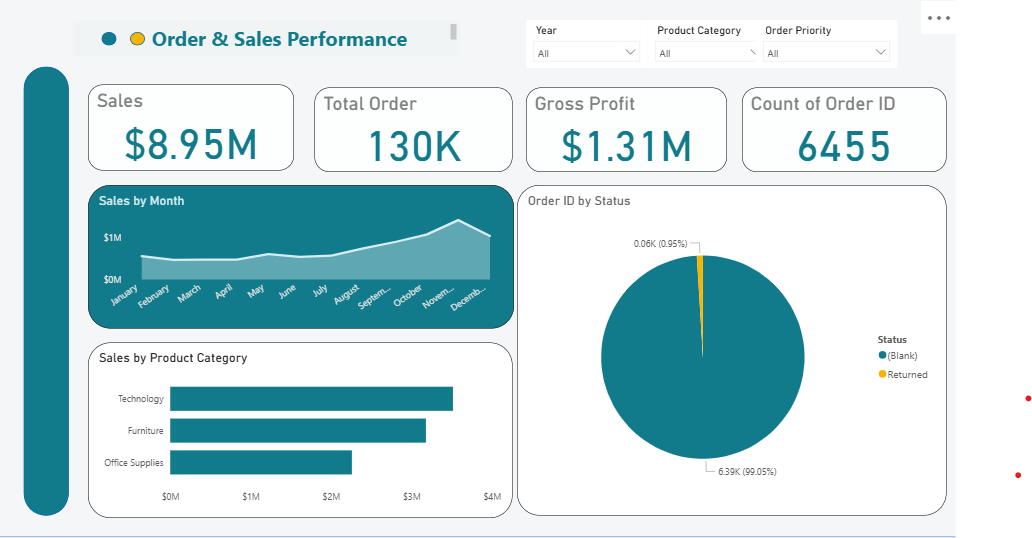

The page's visual inventory and layout, read from the dashboard file:
{"tool":"powerbi","page":{"name":"Page 1","canvas":[1280,720],"ordinal":0},"visuals":[{"type":"shape","box":[0,0,1280.9,719.1],"z":0},{"type":"shape","box":[34,90.7,60.5,599.1],"z":1000},{"type":"card","title":"Sales","fields":{"Values":["Sum(Orders.Sales)"]},"box":[119.1,114.9,274.5,114.9],"z":2000},{"type":"card","title":"Total Order","fields":{"Values":["Sum(Orders.Quantity ordered new)"]},"box":[421.3,117,263.8,112.8],"z":3000},{"type":"card","title":"Gross Profit","fields":{"Values":["Sum(Orders.Profit)"]},"box":[704.3,117,268.1,112.8],"z":4000},{"type":"card","title":"Count of Order ID","fields":{"Values":["Count(Orders.Order ID)"]},"box":[991.5,117,272.3,112.8],"z":5000},{"type":"clusteredBarChart","title":"Sales by Product Category","fields":{"Category":["Orders.Product Category"],"Y":["Sum(Orders.Sales)"]},"box":[119.1,457.4,566,234],"z":6000},{"type":"pieChart","title":"Order ID by Status","fields":{"Category":["Returns.Status"],"Y":["Count(Orders.Order ID)"]},"box":[691.5,248.9,572.3,440.4],"z":7000},{"type":"areaChart","title":"Sales by Month","fields":{"Y":["Sum(Orders.Sales)"],"Category":["Orders.Order Date.Variation.Date Hierarchy.Month"]},"box":[119.1,248.9,568.1,191.5],"z":8000},{"type":"slicer","fields":{"Values":["Orders.Order Date.Variation.Date Hierarchy.Year"]},"box":[704.3,27.7,161.7,63.8],"z":9000},{"type":"slicer","fields":{"Values":["Orders.Product Category"]},"box":[866,27.7,166,63.8],"z":10000},{"type":"slicer","fields":{"Values":["Orders.Order Priority"]},"box":[1010.6,27.7,189.4,63.8],"z":11000},{"type":"textbox","box":[100,27.7,487.2,48.9],"z":12000},{"type":"shape","box":[140.4,36.2,19.1,17],"z":13000},{"type":"shape","box":[174.5,36.2,19.1,17],"z":14000}]}

Visuals, with their boxes in screenshot pixels (x1, y1, x2, y2):
shape: Rect(0, 0, 940, 529)
shape: Rect(22, 67, 67, 508)
"Sales" card: Rect(85, 85, 287, 169)
"Total Order" card: Rect(307, 86, 502, 169)
"Gross Profit" card: Rect(516, 86, 713, 169)
"Count of Order ID" card: Rect(727, 86, 928, 169)
"Sales by Product Category" clusteredBarChart: Rect(85, 337, 502, 509)
"Order ID by Status" pieChart: Rect(506, 183, 928, 507)
"Sales by Month" areaChart: Rect(85, 183, 503, 324)
slicer - Orders.Order Date.Variation.Date Hierarchy.Year: Rect(516, 20, 635, 67)
slicer - Orders.Product Category: Rect(635, 20, 757, 67)
slicer - Orders.Order Priority: Rect(741, 20, 881, 67)
textbox: Rect(71, 20, 430, 56)
shape: Rect(101, 27, 115, 39)
shape: Rect(126, 27, 140, 39)
